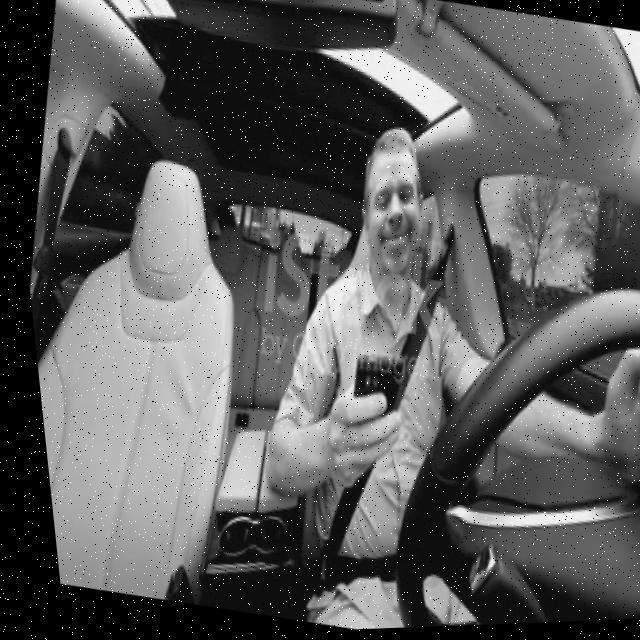PhoneCall: (326, 348, 406, 480)
